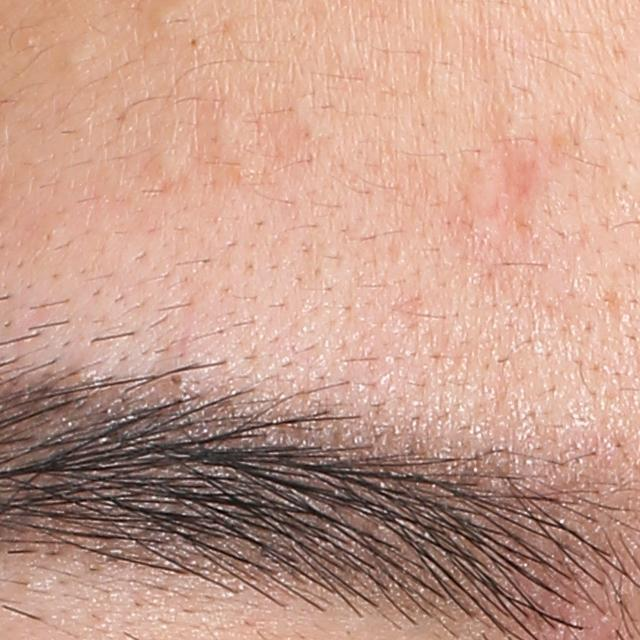comedo: (449, 155, 518, 223), (47, 33, 98, 89), (143, 147, 187, 197), (186, 34, 207, 59)
